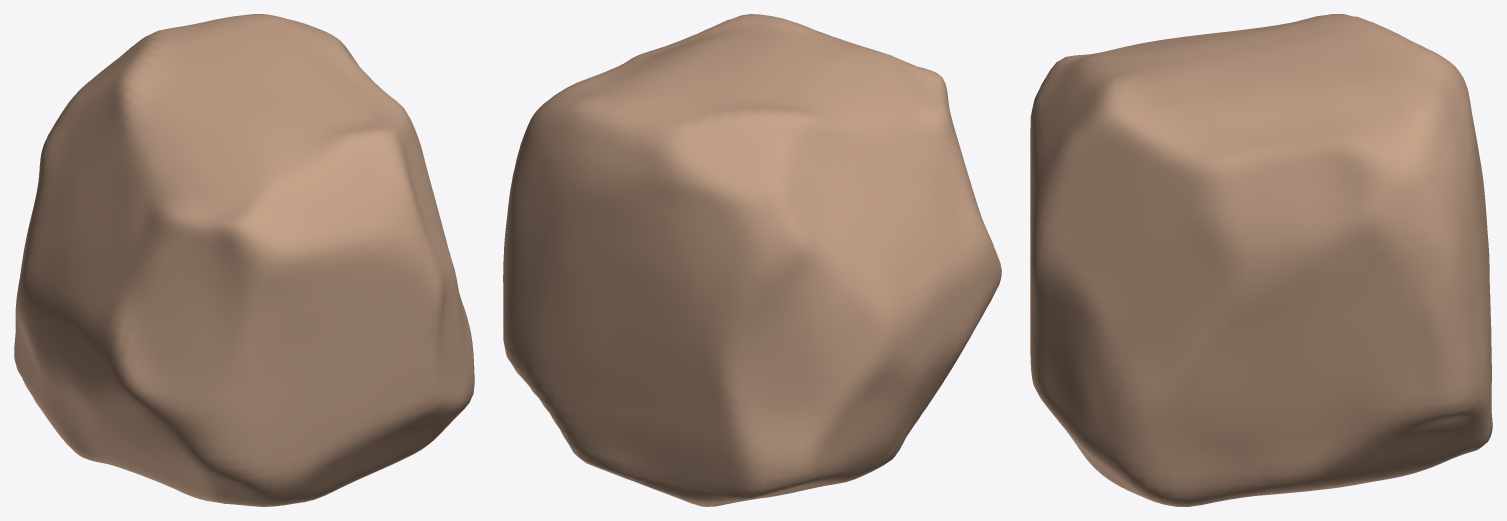
The model's file is Rock.fbx.
3 renders of one model, left to right at view 1: azimuth 30°, elevation 25°; view 2: azimuth 150°, elevation 25°; view 3: azimuth 270°, elevation 25°, orthographic. The views are drawn at different scales.
Visible parts, largest first — view 1: cube; view 2: cube; view 3: cube.
Part boxes in pixels (x1,y1,x2,y2): cube: (14,14,474,506); cube: (503,14,1001,506); cube: (1030,14,1492,506).
Bounding box in the file's own units: 148 × 147 × 151.
